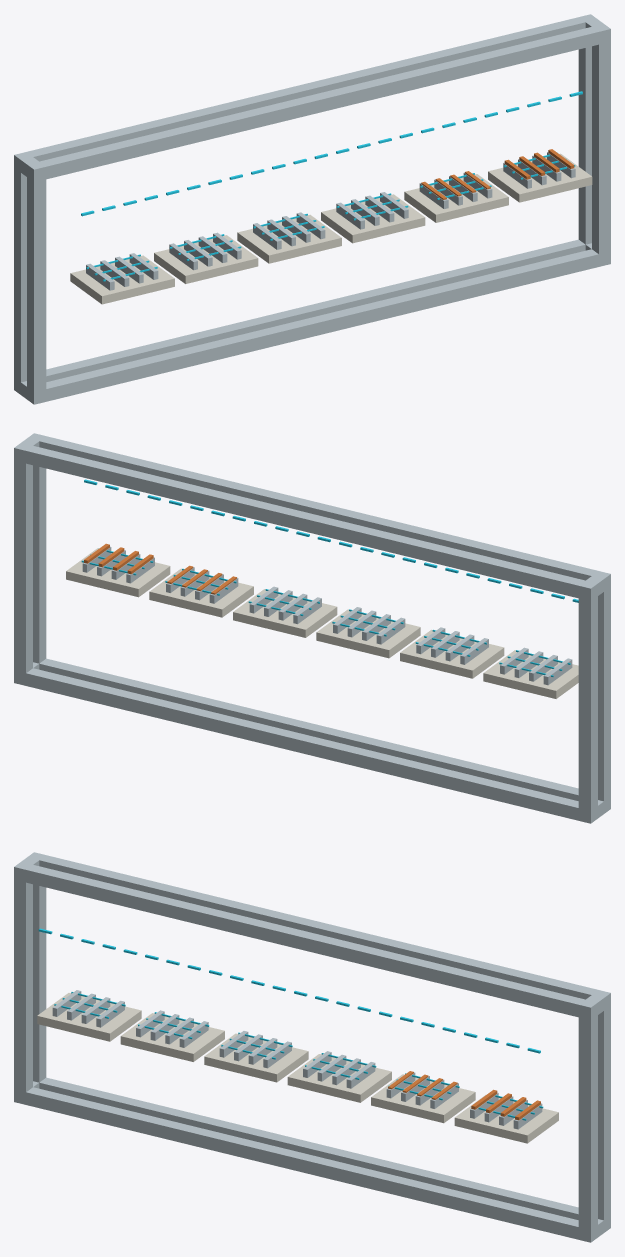
File: 06_L76_HolographicTrenchViaCrossSection.fbx
3 renders of one model, top to bottom at view 1: azimuth 30°, elevation 25°; view 2: azimuth 150°, elevation 25°; view 3: azimuth 330°, elevation 25°, orthographic.
Parts seen in each view (by area): view 1: HolographicTrenchViaCrossSection, HolographicTrenchViaCrossSection_Part_0044, HolographicTrenchViaCrossSection_Part_0032, HolographicTrenchViaCrossSection_Part_0020, HolographicTrenchViaCrossSection_Part_0012, HolographicTrenchViaCrossSection_Part_0056, HolographicTrenchViaCrossSection_Part_0068; view 2: HolographicTrenchViaCrossSection, HolographicTrenchViaCrossSection_Part_0020, HolographicTrenchViaCrossSection_Part_0044, HolographicTrenchViaCrossSection_Part_0032, HolographicTrenchViaCrossSection_Part_0056, HolographicTrenchViaCrossSection_Part_0012, HolographicTrenchViaCrossSection_Part_0068; view 3: HolographicTrenchViaCrossSection, HolographicTrenchViaCrossSection_Part_0020, HolographicTrenchViaCrossSection_Part_0044, HolographicTrenchViaCrossSection_Part_0032, HolographicTrenchViaCrossSection_Part_0012, HolographicTrenchViaCrossSection_Part_0056, HolographicTrenchViaCrossSection_Part_0068.
Boxes of the visible parts, x1,y1,x2,y2 form: HolographicTrenchViaCrossSection: (14, 14, 610, 404); HolographicTrenchViaCrossSection_Part_0044: (321, 194, 425, 243); HolographicTrenchViaCrossSection_Part_0032: (237, 214, 341, 263); HolographicTrenchViaCrossSection_Part_0020: (154, 235, 258, 283); HolographicTrenchViaCrossSection_Part_0012: (70, 255, 174, 304); HolographicTrenchViaCrossSection_Part_0056: (404, 174, 508, 222); HolographicTrenchViaCrossSection_Part_0068: (488, 153, 592, 202); HolographicTrenchViaCrossSection: (14, 433, 610, 823); HolographicTrenchViaCrossSection_Part_0020: (400, 629, 504, 678); HolographicTrenchViaCrossSection_Part_0044: (233, 589, 337, 637); HolographicTrenchViaCrossSection_Part_0032: (316, 609, 420, 658); HolographicTrenchViaCrossSection_Part_0056: (149, 568, 253, 617); HolographicTrenchViaCrossSection_Part_0012: (483, 650, 578, 698); HolographicTrenchViaCrossSection_Part_0068: (66, 548, 170, 597); HolographicTrenchViaCrossSection: (14, 852, 610, 1242); HolographicTrenchViaCrossSection_Part_0020: (120, 1013, 224, 1061); HolographicTrenchViaCrossSection_Part_0044: (287, 1054, 391, 1102); HolographicTrenchViaCrossSection_Part_0032: (204, 1033, 308, 1082); HolographicTrenchViaCrossSection_Part_0012: (37, 993, 141, 1041); HolographicTrenchViaCrossSection_Part_0056: (371, 1074, 475, 1123); HolographicTrenchViaCrossSection_Part_0068: (454, 1094, 558, 1143).
Bounding box in the file's own units: 380 × 148 × 48.5.
